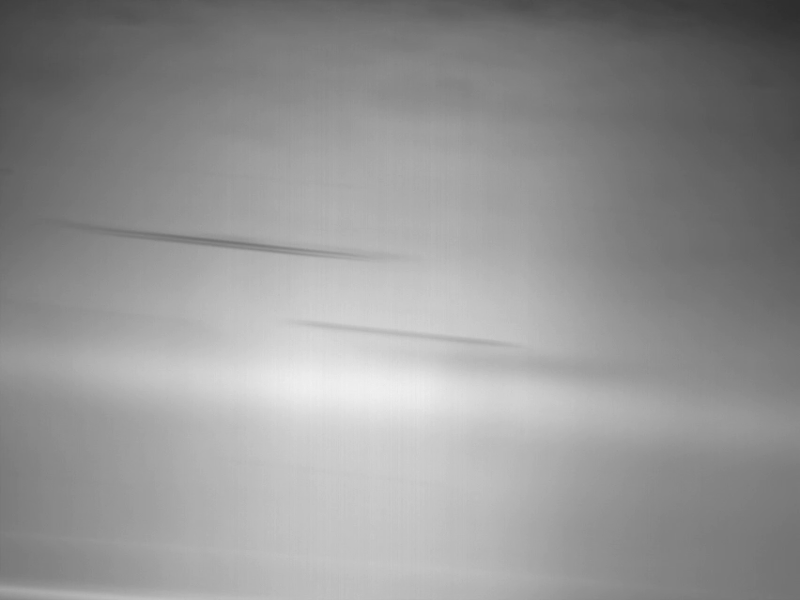fiber: (42, 210, 419, 271), (291, 313, 528, 363)
